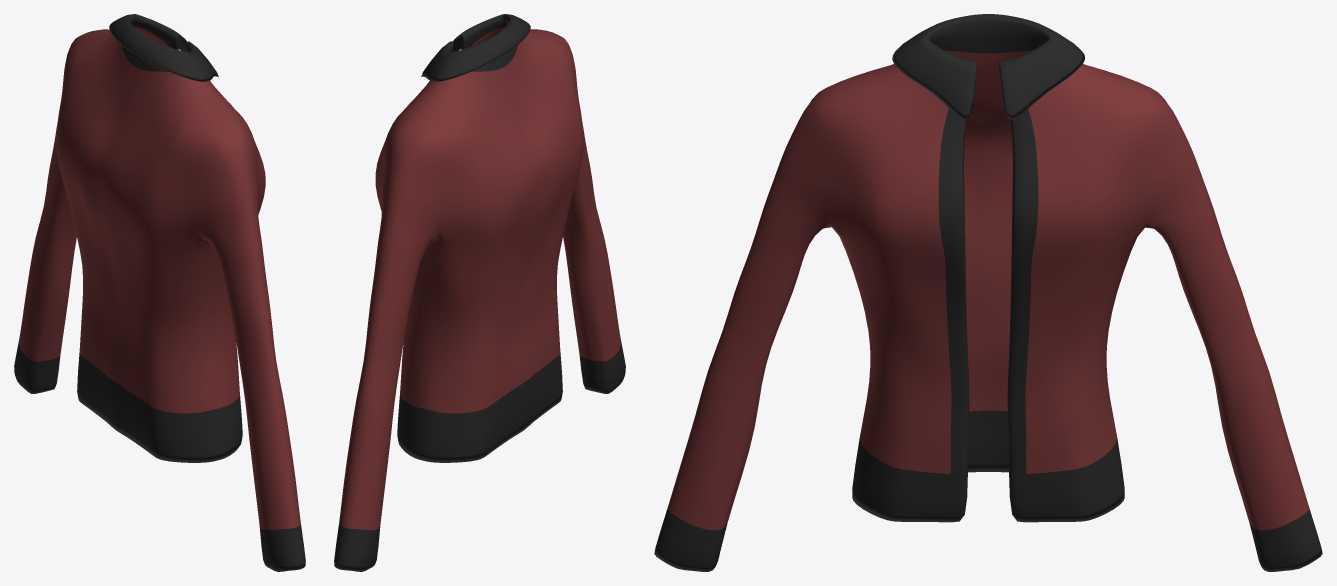
File: StrayJacket.fbx
The picture shows the model from 3 angles, left to right: view 1: azimuth 30°, elevation 25°; view 2: azimuth 150°, elevation 25°; view 3: azimuth 270°, elevation 25°; orthographic projection. The views are drawn at different scales.
Parts seen in each view (by area): view 1: Torso.001; view 2: Torso.001; view 3: Torso.001.
Part boxes in pixels (bbox=[...]): Torso.001: bbox=[14, 14, 305, 571]; Torso.001: bbox=[334, 14, 625, 571]; Torso.001: bbox=[654, 14, 1322, 571].
Bounding box in the file's own units: 149 × 491 × 552.
